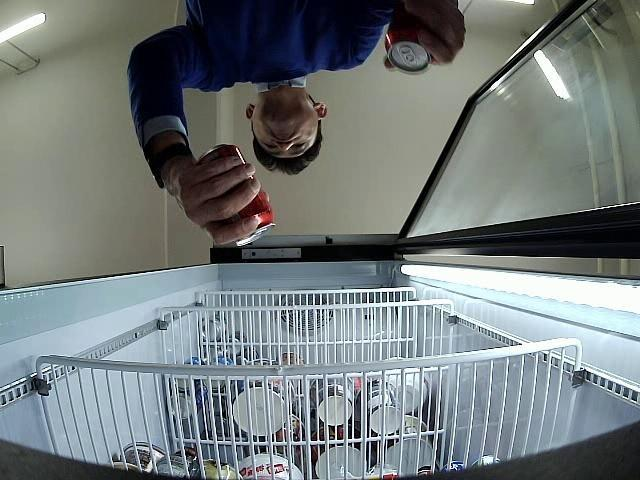11_cocaColaZero: (198, 144, 276, 248), (384, 8, 432, 76)
